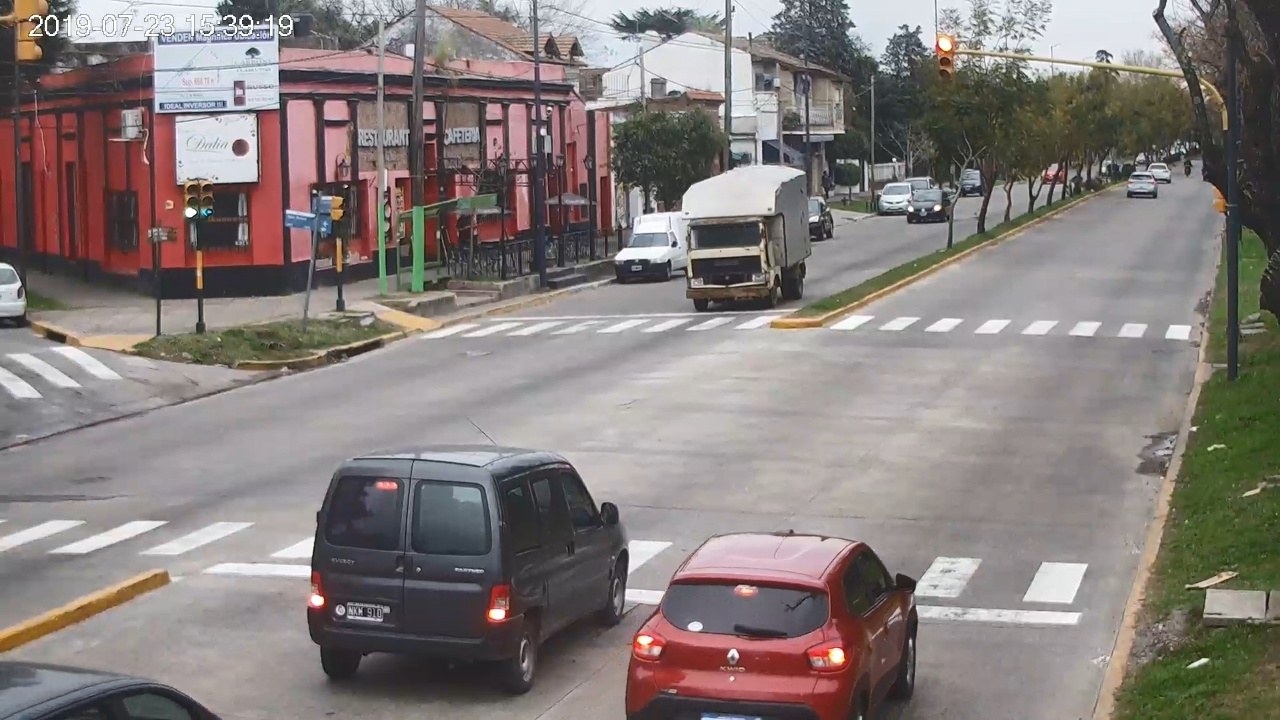car: (308, 446, 630, 692), (625, 530, 918, 720)
traffic light: (937, 36, 954, 78)
